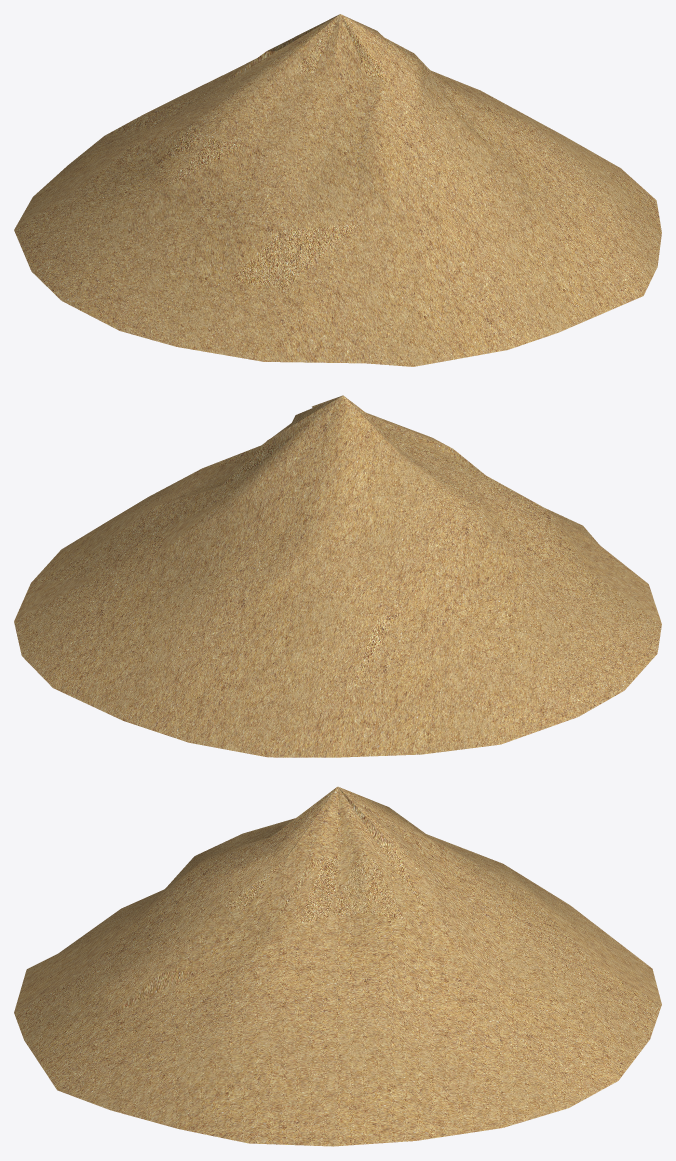
The model's file is monton arena.FBX.
The picture shows the model from 3 angles, top to bottom: view 1: azimuth 30°, elevation 25°; view 2: azimuth 150°, elevation 25°; view 3: azimuth 270°, elevation 25°; orthographic projection. The views are drawn at different scales.
Visible parts, largest first — view 1: Cone002; view 2: Cone002; view 3: Cone002.
Boxes of the visible parts, x1,y1,x2,y2 form: Cone002: (14,14,661,366); Cone002: (14,395,661,757); Cone002: (14,786,661,1146).
Bounding box in the file's own units: 137 × 52.02 × 137.
